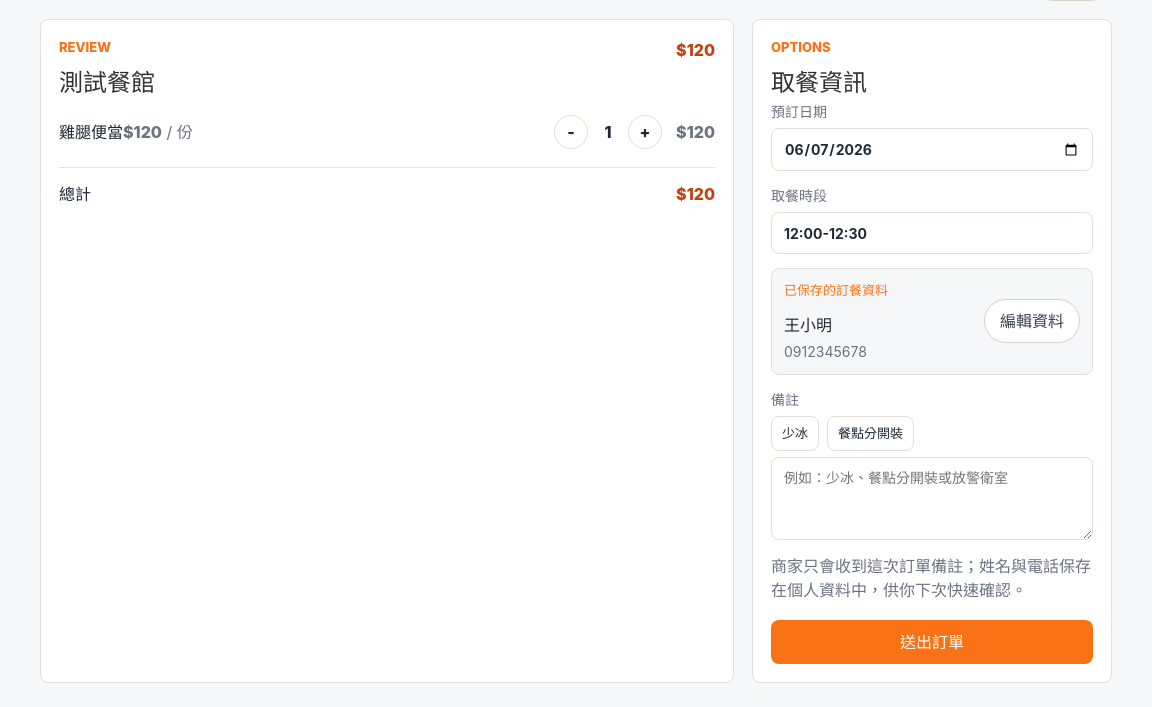
Test: CheckoutPage › disables duplicate submit while pending
(page scrolled)
Click the button with test id "checkout-submit-button" at {"x": 932, "y": 642}, box [771,620,1093,664]
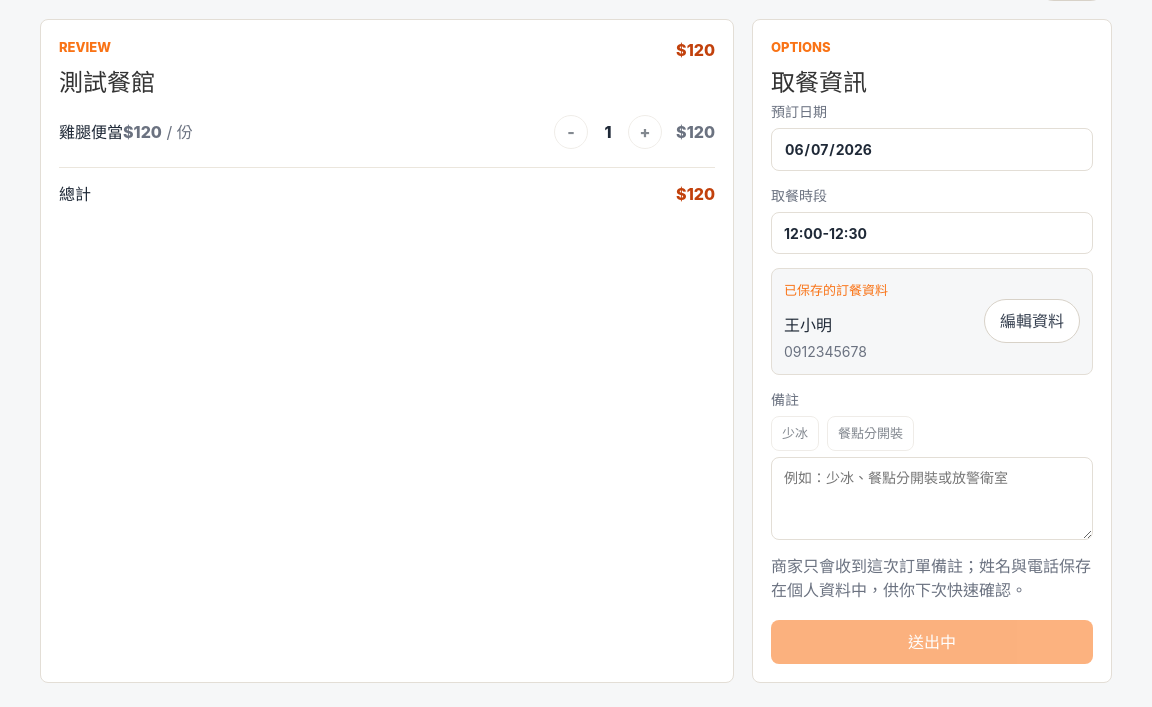
Check: the button with test id "checkout-submit-button" is disabled, box [771,620,1093,664]
